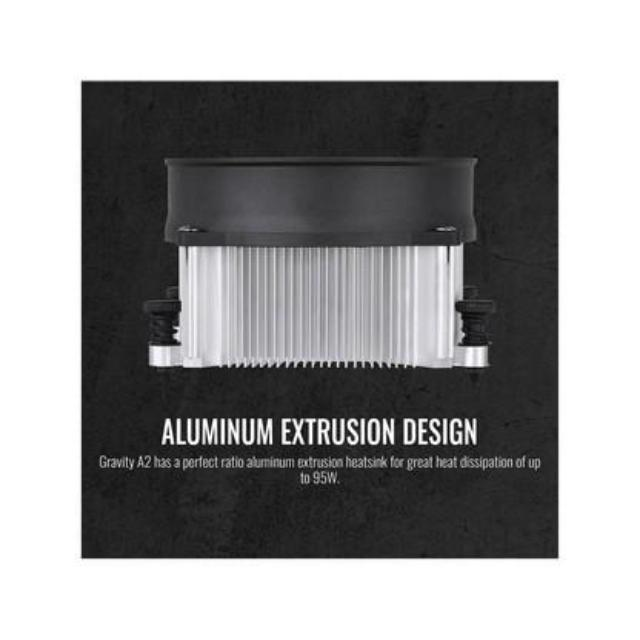CPU_Fan: (152, 142, 499, 376)
